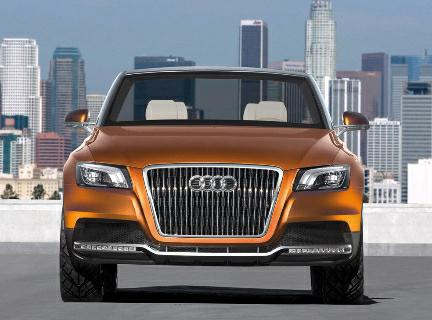奥迪-Cross: (49, 60, 375, 313)
